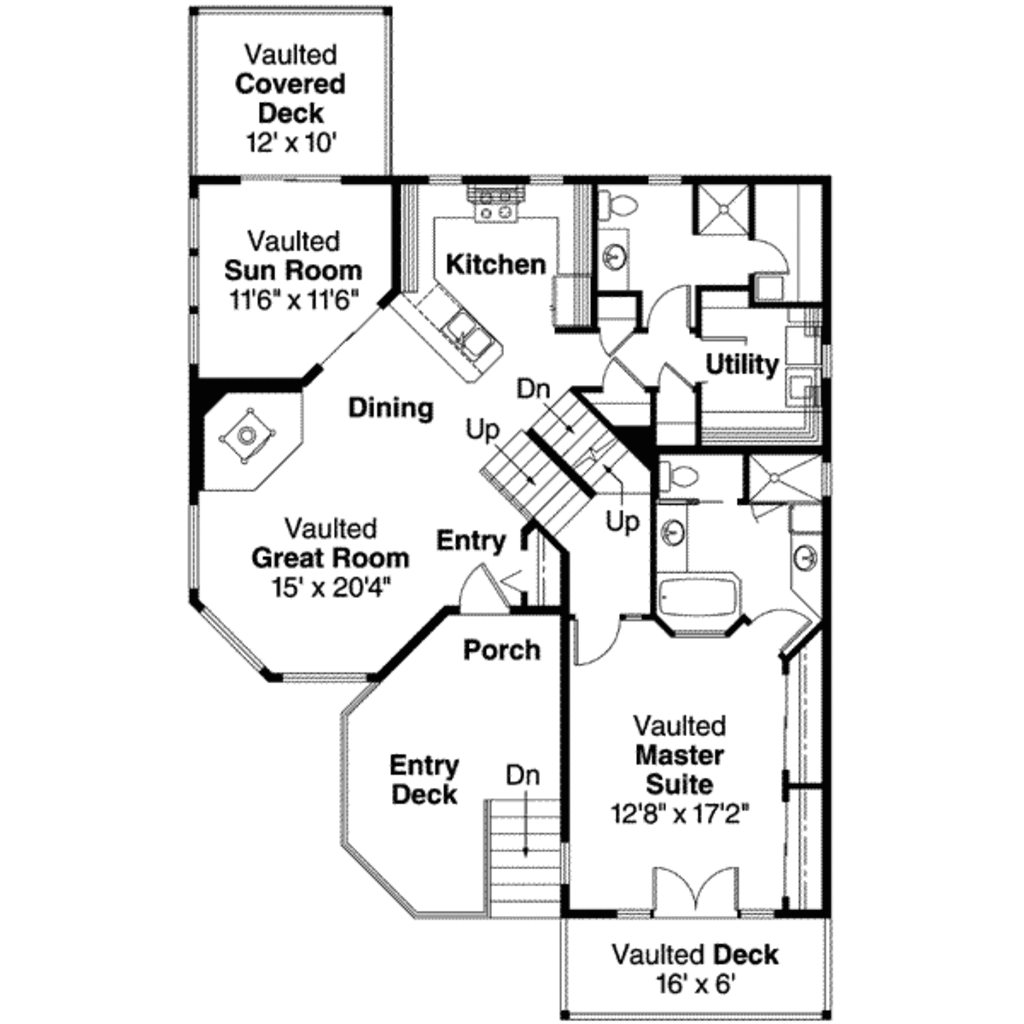door: (641, 858, 744, 920), (747, 593, 807, 658), (574, 608, 633, 668), (590, 312, 644, 365), (642, 278, 690, 332), (649, 360, 695, 409), (746, 232, 792, 281)
large_sink: (590, 182, 646, 228), (652, 455, 707, 498)
small_sink: (647, 505, 695, 565), (780, 533, 823, 597), (590, 232, 631, 295)
stairs: (461, 374, 647, 566), (471, 760, 569, 912)
twin_sink: (433, 303, 501, 376)
window: (198, 606, 276, 666), (250, 651, 374, 685), (179, 497, 211, 603), (188, 197, 207, 363)
